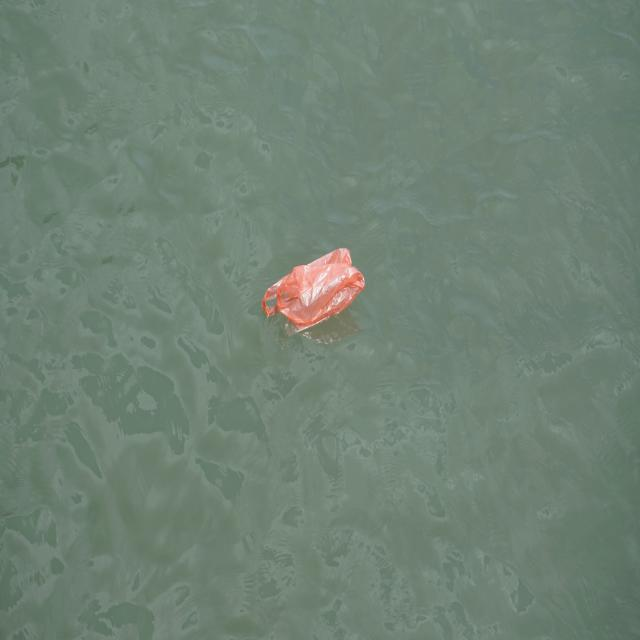Kantong Plastik: (261, 239, 374, 345)
